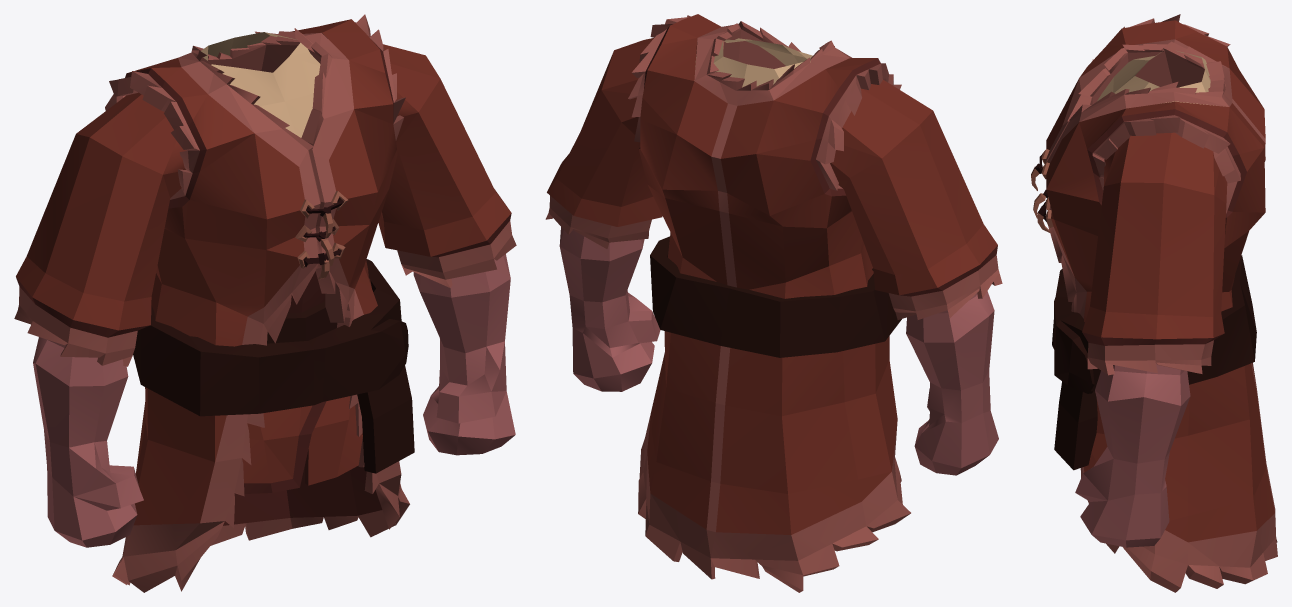
Rendered from FurChestplate.dae.
3 views of the same model, side by side, from view 1: azimuth 30°, elevation 25°; view 2: azimuth 150°, elevation 25°; view 3: azimuth 270°, elevation 25° (orthographic). The views are drawn at different scales.
Visible parts, largest first — view 1: Chest; view 2: Chest; view 3: Chest.
Part boxes in pixels (left/top/right/bottom): Chest: left=14, top=14, right=516, bottom=592; Chest: left=545, top=14, right=1002, bottom=592; Chest: left=1031, top=14, right=1277, bottom=592.
Size of the model in its own units: 5.2 by 2.61 by 5.85.
